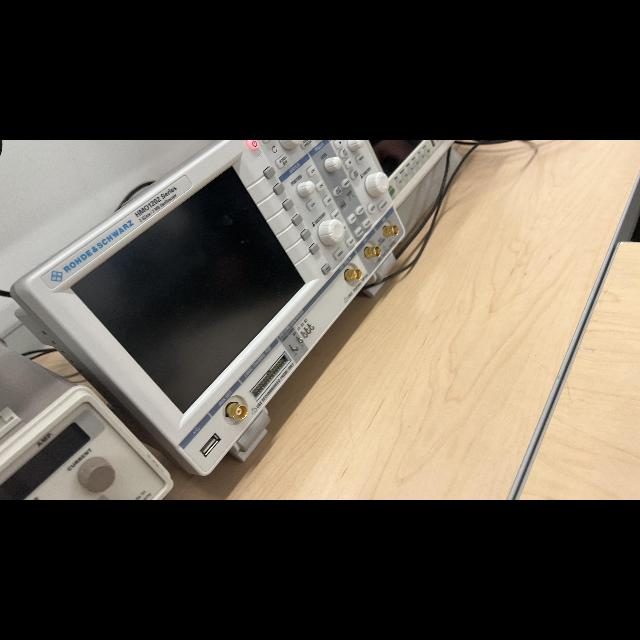Digital-Oscilloscope: (12, 140, 404, 475)
